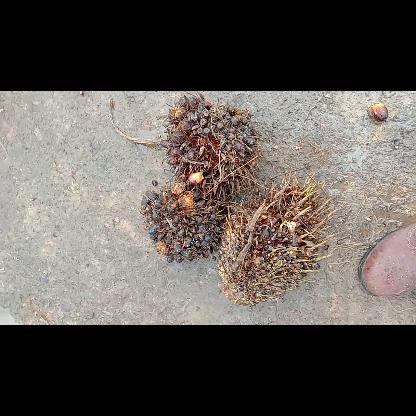TBS abnormal: (217, 172, 335, 304), (161, 93, 261, 199), (141, 172, 224, 262)
